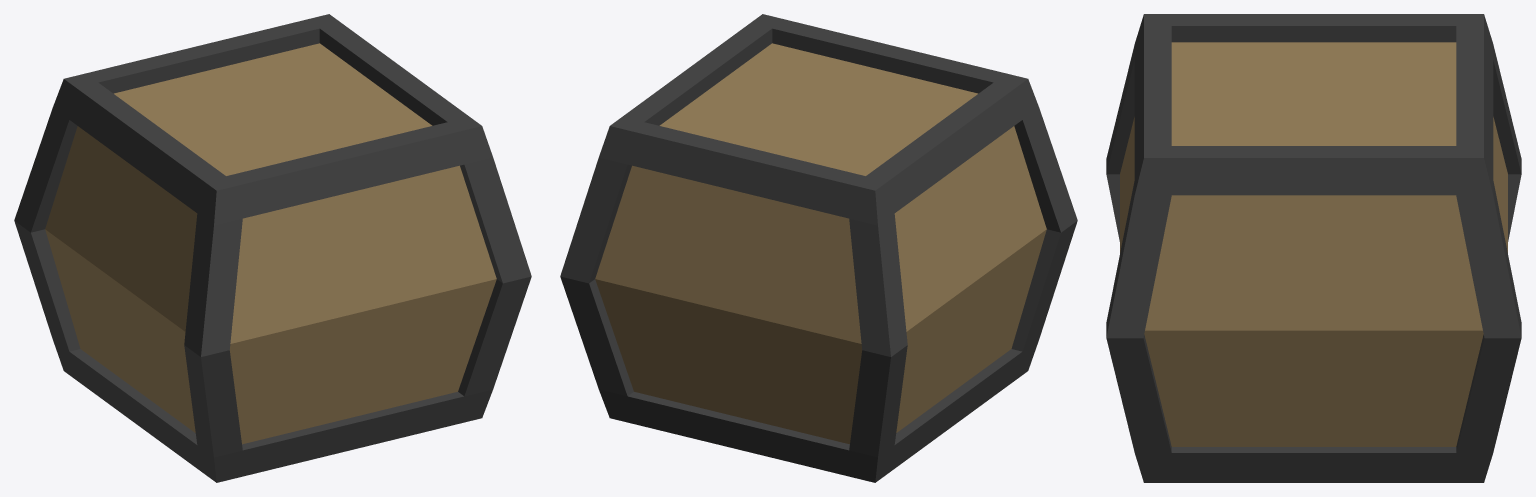
The model's file is Small Box Type 2 destruction.fbx.
3 views of the same model, side by side, from view 1: azimuth 30°, elevation 25°; view 2: azimuth 150°, elevation 25°; view 3: azimuth 270°, elevation 25° (orthographic). The views are drawn at different scales.
Parts seen in each view (by area): view 1: Cube.286, Cube.289, Cube.292, Cube.287, Cube.291, Cube.285, Cube.288, Cube.290; view 2: Cube.287, Cube.288, Cube.285, Cube.286, Cube.290, Cube.292, Cube.289, Cube.291; view 3: Cube.289, Cube.288, Cube.291, Cube.290, Cube.287, Cube.286, Cube.292, Cube.285.
Boxes of the visible parts, bbox=[...] form: Cube.286: bbox=[122, 117, 360, 444]; Cube.289: bbox=[273, 90, 496, 418]; Cube.292: bbox=[133, 129, 353, 482]; Cube.287: bbox=[45, 70, 272, 395]; Cube.291: bbox=[337, 70, 531, 450]; Cube.285: bbox=[14, 46, 208, 426]; Cube.288: bbox=[209, 43, 382, 116]; Cube.290: bbox=[197, 14, 405, 89]; Cube.287: bbox=[731, 117, 969, 444]; Cube.288: bbox=[595, 90, 818, 418]; Cube.285: bbox=[738, 129, 958, 482]; Cube.286: bbox=[819, 70, 1046, 395]; Cube.290: bbox=[560, 70, 754, 450]; Cube.292: bbox=[883, 46, 1077, 426]; Cube.289: bbox=[709, 43, 882, 116]; Cube.291: bbox=[686, 14, 894, 89]; Cube.289: bbox=[1120, 102, 1313, 446]; Cube.288: bbox=[1314, 102, 1507, 446]; Cube.291: bbox=[1106, 86, 1313, 482]; Cube.290: bbox=[1314, 86, 1521, 482]; Cube.287: bbox=[1314, 42, 1507, 246]; Cube.286: bbox=[1120, 42, 1313, 246]; Cube.292: bbox=[1106, 14, 1313, 241]; Cube.285: bbox=[1314, 14, 1521, 241].
Size of the model in its own units: 0.7928 by 0.6692 by 0.7749.
